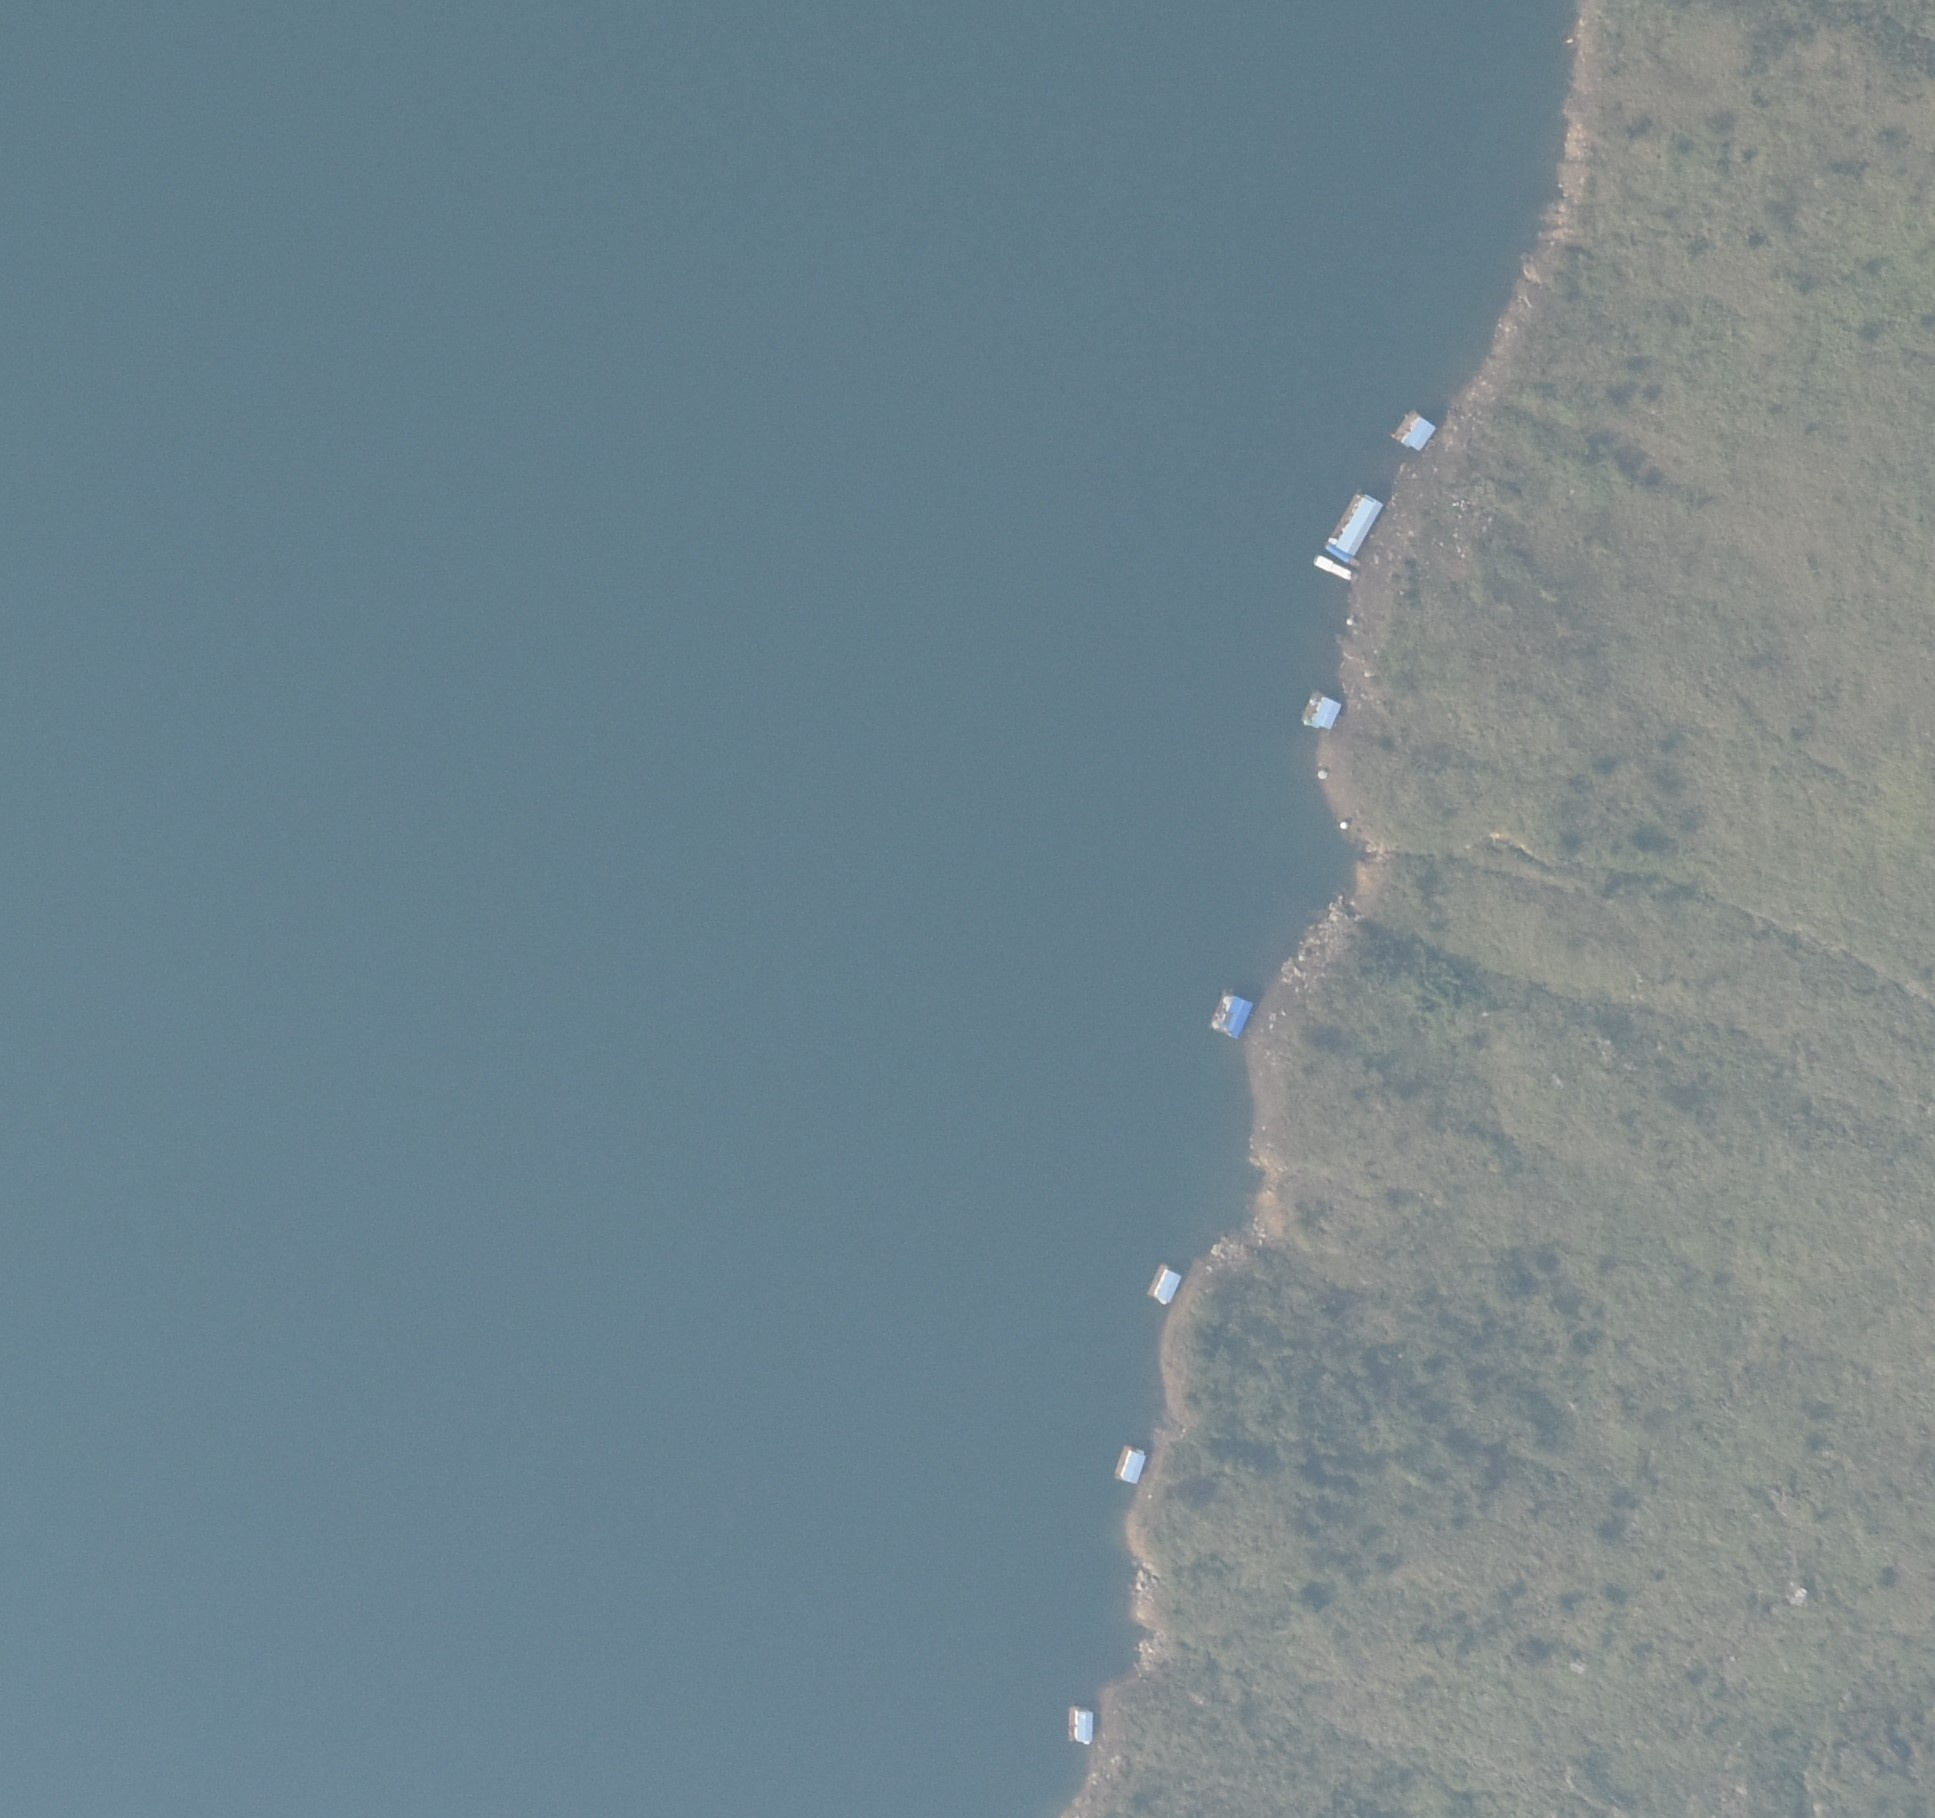prefabricated-house: (1326, 488, 1394, 569), (1203, 985, 1255, 1050), (1381, 403, 1440, 455), (1110, 1440, 1154, 1495), (1058, 1696, 1103, 1745), (1301, 688, 1345, 738), (1141, 1259, 1183, 1305)
ship: (1305, 550, 1356, 585)
